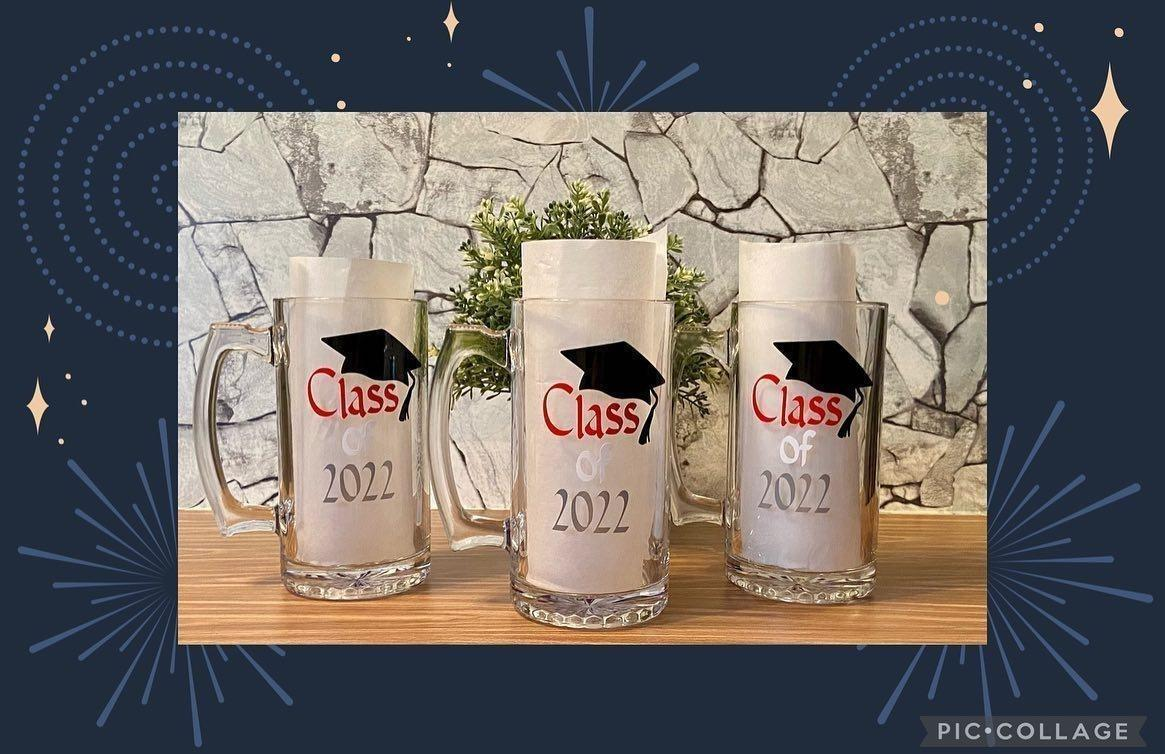glass-mug: (423, 287, 682, 628), (191, 289, 442, 607), (671, 294, 894, 604)
